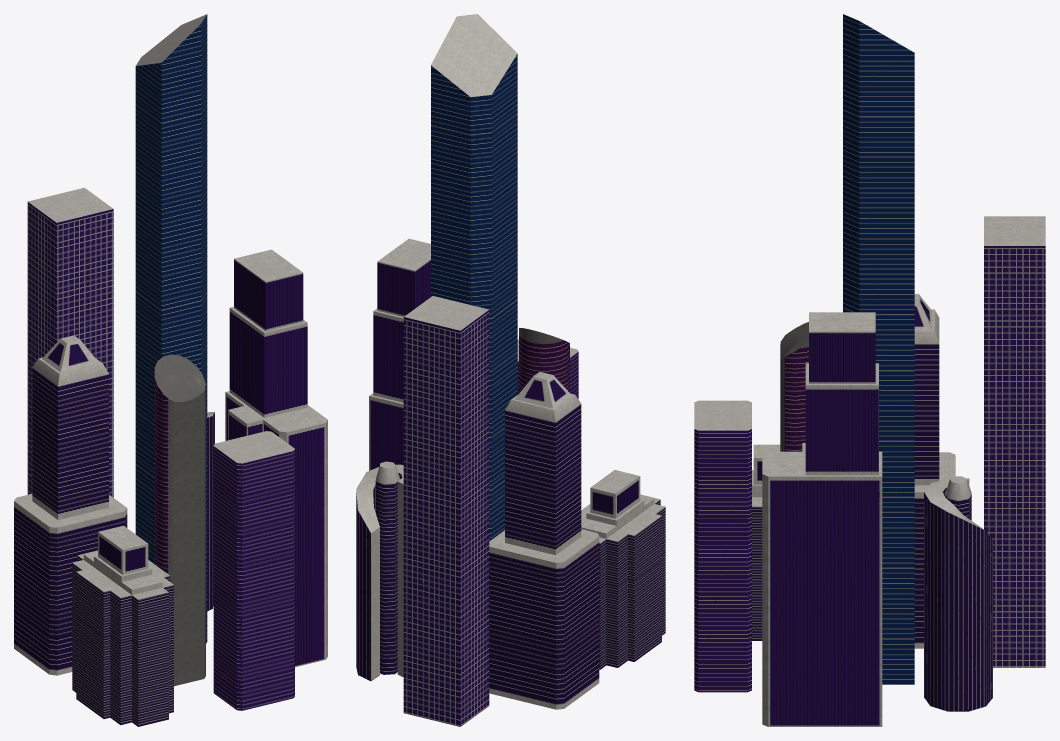
Rendered from SkyCrapers.FBX.
3 views of the same model, side by side, from view 1: azimuth 30°, elevation 25°; view 2: azimuth 150°, elevation 25°; view 3: azimuth 270°, elevation 25° (orthographic). The views are drawn at different scales.
Parts seen in each view (by area): view 1: Skycraper1, Skycraper6, Skycraper2, Skycraper4, Skycraper7, Skycraper5, Skycraper3, Skycraper8; view 2: Skycraper5, Skycraper6, Skycraper1, Skycraper7, Skycraper8, Skycraper2, Skycraper3, Skycraper4; view 3: Skycraper2, Skycraper1, Skycraper5, Skycraper4, Skycraper8, Skycraper6, Skycraper3, Skycraper7.
Boxes of the visible parts, bbox=[...] form: Skycraper1: bbox=[135, 14, 207, 643]; Skycraper6: bbox=[14, 335, 127, 675]; Skycraper2: bbox=[225, 249, 327, 667]; Skycraper4: bbox=[213, 431, 294, 710]; Skycraper7: bbox=[72, 525, 173, 726]; Skycraper5: bbox=[27, 187, 113, 497]; Skycraper3: bbox=[154, 354, 205, 686]; Skycraper8: bbox=[207, 412, 214, 611]; Skycraper5: bbox=[403, 296, 489, 726]; Skycraper6: bbox=[489, 372, 599, 709]; Skycraper1: bbox=[431, 14, 517, 540]; Skycraper7: bbox=[581, 470, 665, 669]; Skycraper8: bbox=[356, 461, 403, 681]; Skycraper2: bbox=[369, 238, 430, 470]; Skycraper3: bbox=[519, 328, 569, 393]; Skycraper4: bbox=[517, 339, 578, 398]; Skycraper2: bbox=[762, 312, 882, 726]; Skycraper1: bbox=[843, 14, 914, 684]; Skycraper5: bbox=[984, 216, 1045, 667]; Skycraper4: bbox=[694, 400, 751, 692]; Skycraper8: bbox=[924, 476, 992, 711]; Skycraper6: bbox=[914, 294, 955, 648]; Skycraper3: bbox=[780, 322, 808, 451]; Skycraper7: bbox=[752, 444, 780, 640].
Size of what is drawn, in the model's own units: 169 by 436 by 209.
8 materials, 8 textured.
